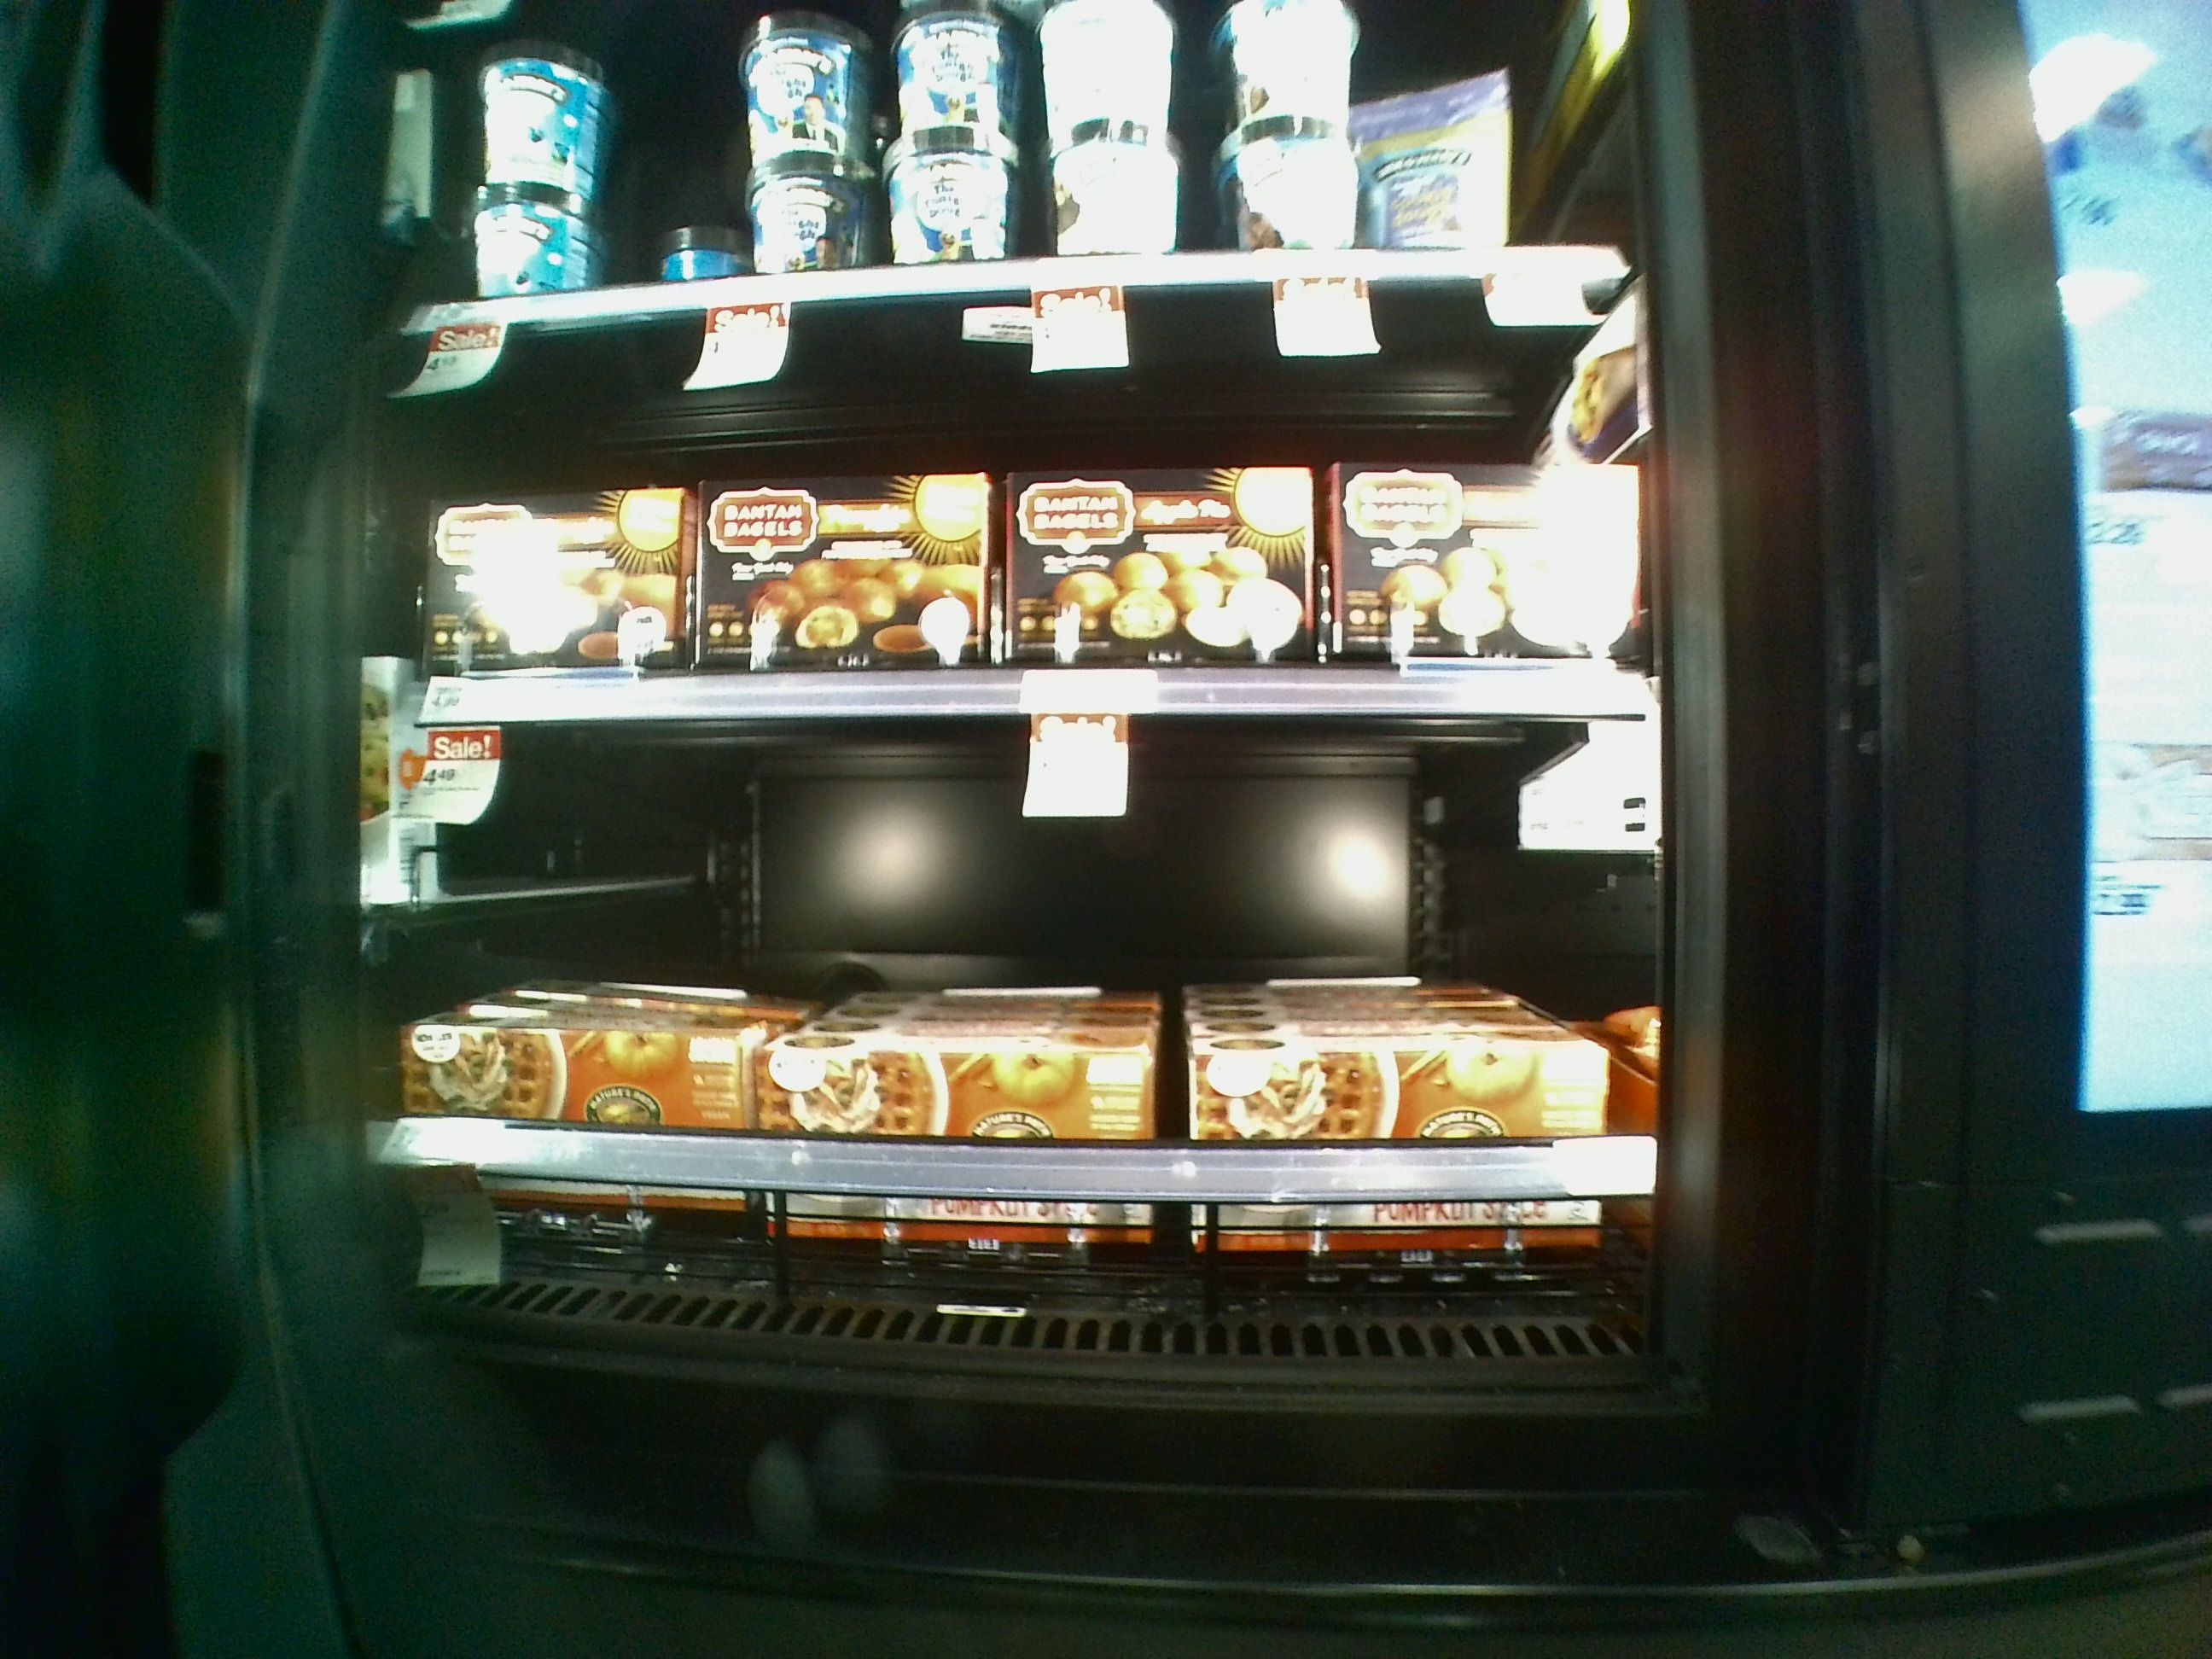shelf: (284, 701, 1684, 1417), (308, 319, 1669, 727)
